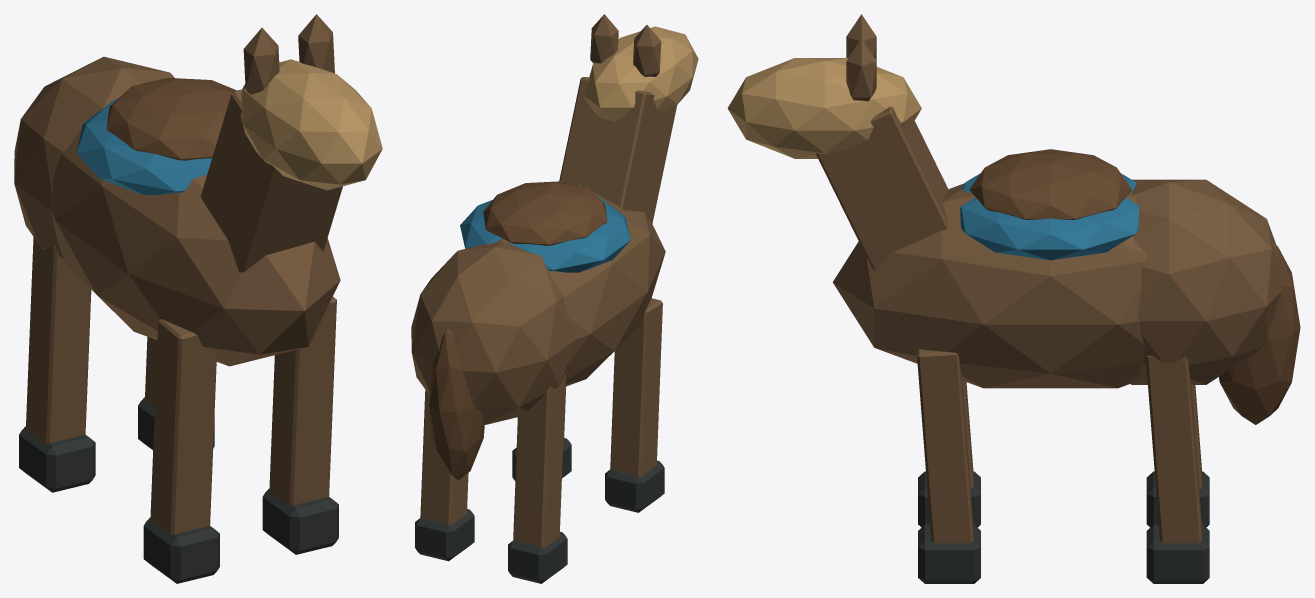
Rendered from horse.glb.
The picture shows the model from 3 angles, left to right: view 1: azimuth 30°, elevation 25°; view 2: azimuth 150°, elevation 25°; view 3: azimuth 270°, elevation 25°; orthographic projection. The views are drawn at different scales.
Parts seen in each view (by area): view 1: Chestnut body, Head and muzzle, Leg, Raised neck, Leg.001, Muscular hindquarters, Leg.002, Saddle, Blue saddlecloth, Hoof.001, Hoof.002, Hoof (+4 smaller); view 2: Muscular hindquarters, Raised neck, Chestnut body, Leg, Leg.001, Saddle, Head and muzzle, Tail, Blue saddlecloth, Leg.003, Hoof, Hoof.001 (+4 smaller); view 3: Chestnut body, Muscular hindquarters, Head and muzzle, Raised neck, Saddle, Leg.002, Leg.003, Blue saddlecloth, Tail, Hoof.003, Hoof.002, Pointed ear.001 (+3 smaller).
Part boxes in pixels (x1,y1,x2,y2): Chestnut body: (50,129,340,366); Head and muzzle: (240,59,382,190); Leg: (150,319,216,535); Raised neck: (200,89,342,272); Leg.001: (25,234,91,443); Muscular hindquarters: (14,56,174,279); Leg.002: (269,296,336,506); Saddle: (106,78,236,160); Blue saddlecloth: (76,99,211,195); Hoof.001: (19,426,95,492); Hoof.002: (262,488,338,554); Hoof: (143,518,219,583); Muscular hindquarters: (411,241,575,424); Raised neck: (559,77,677,223); Chestnut body: (493,184,665,386); Leg: (610,298,662,476); Leg.001: (513,373,565,547); Saddle: (483,181,607,245); Head and muzzle: (584,26,698,121); Tail: (429,328,484,480); Blue saddlecloth: (460,198,630,272); Leg.003: (420,390,468,525); Hoof: (605,460,664,512); Hoof.001: (508,531,567,583); Chestnut body: (832,183,1146,388); Muscular hindquarters: (1130,179,1282,384); Head and muzzle: (727,58,921,158); Raised neck: (816,106,949,270); Saddle: (969,149,1131,219); Leg.002: (917,349,973,543); Leg.003: (1145,355,1202,543); Blue saddlecloth: (960,173,1139,260); Tail: (1219,242,1300,424); Hoof.003: (1146,524,1209,583); Hoof.002: (918,524,980,583); Pointed ear.001: (846,39,876,101).
Bounding box in the file's own units: 0.7608 × 2.19 × 2.18.
